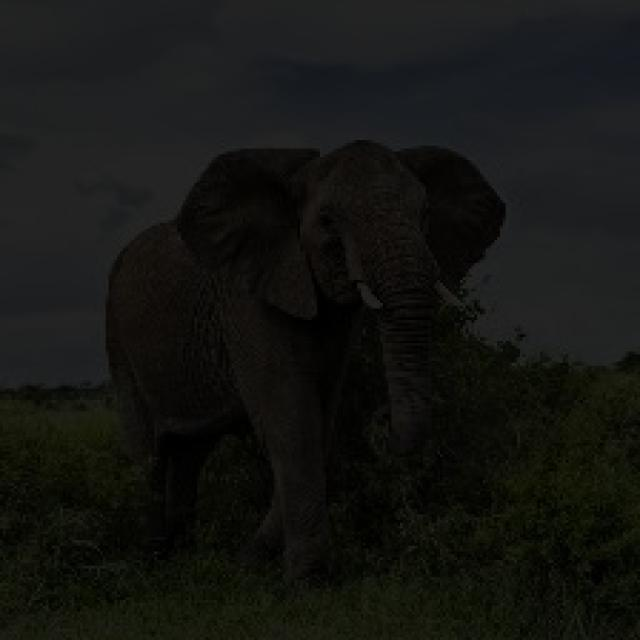animal: (142, 127, 562, 573)
